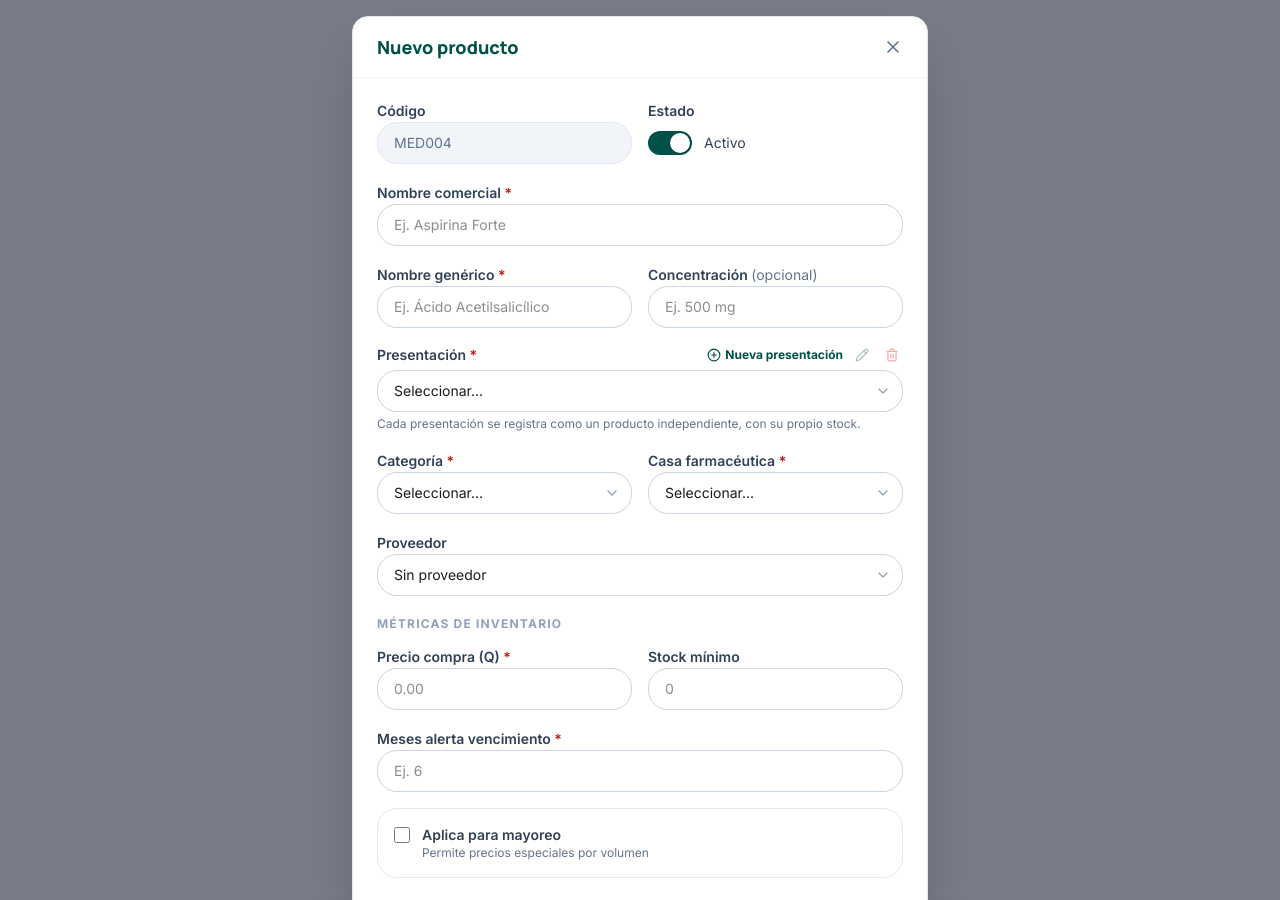
ProductoFormModal › permite crear una presentación nueva desde un modal, sin salir del formulario
This screenshot has width=1280, height=900.
Step 1. Click the button "Nueva presentación" → (775,355), box x1=707 y1=347 x2=843 y2=363
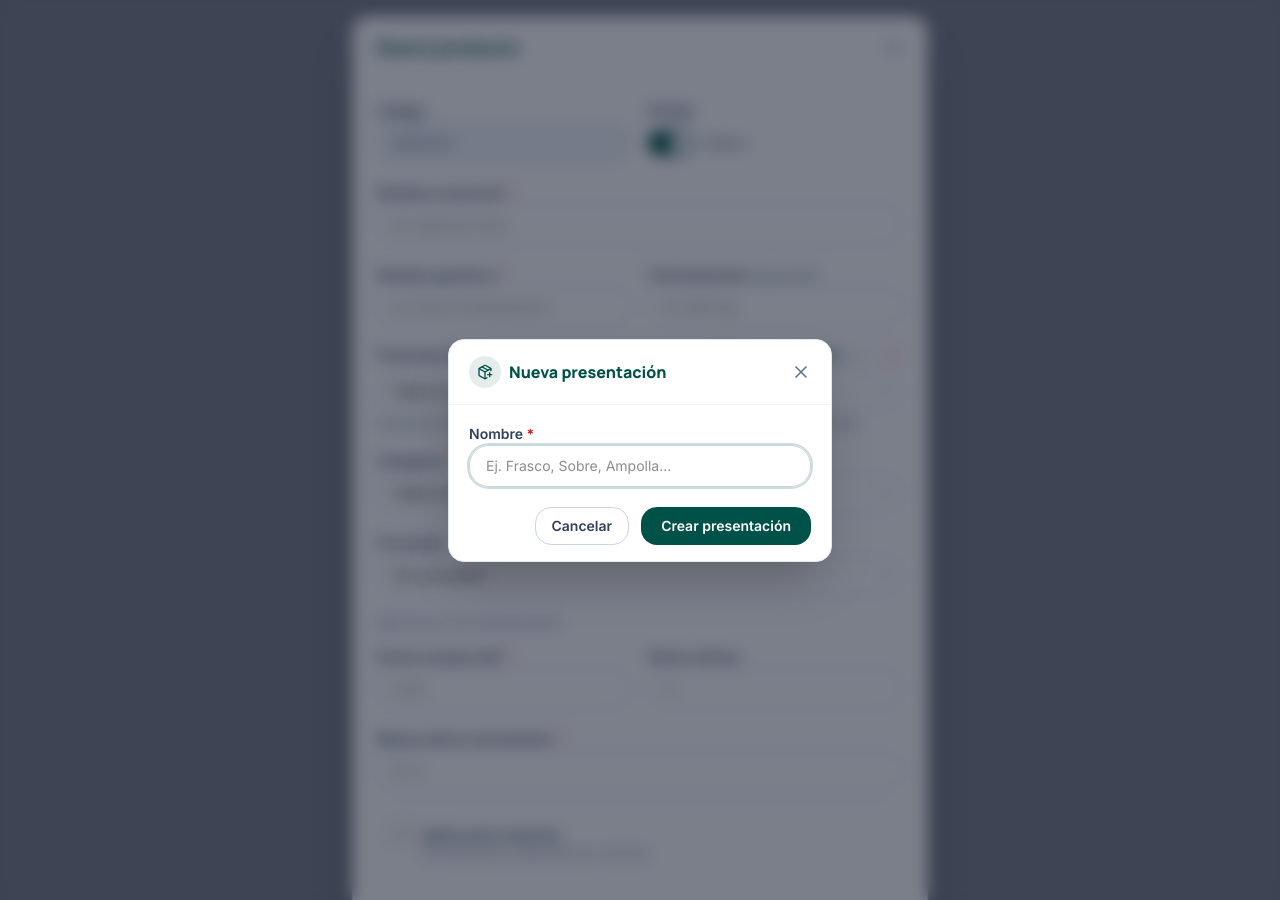
Expected: the heading "Nueva presentación" is shown, x1=509 y1=360 x2=666 y2=384
Step 2. Type "Frasco" into the field with placeholder "Ej. Frasco, Sobre, Ampolla..." → (640,466), box x1=469 y1=444 x2=811 y2=486
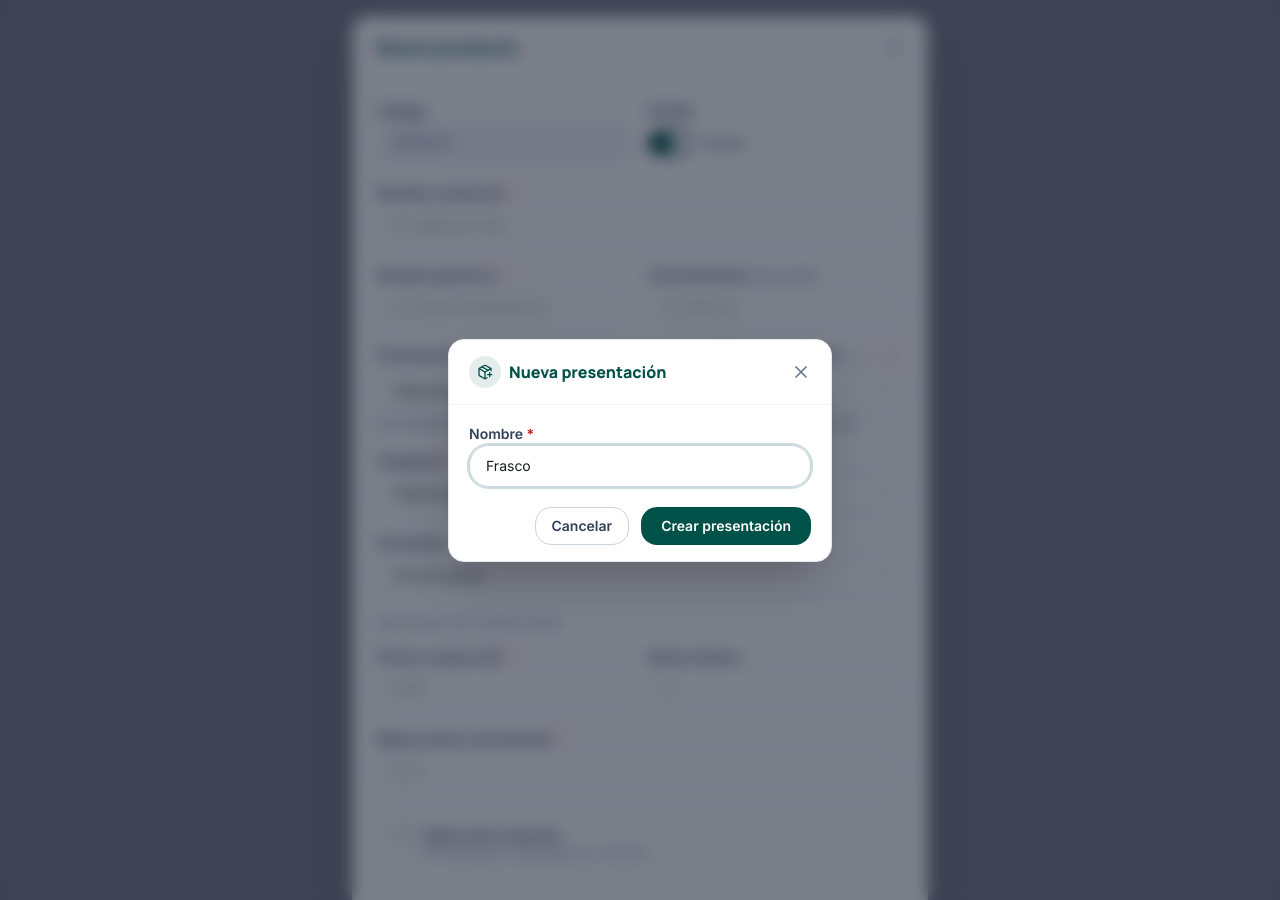
Step 3. Click the button "Crear presentación" → (726,526), box x1=641 y1=506 x2=811 y2=544
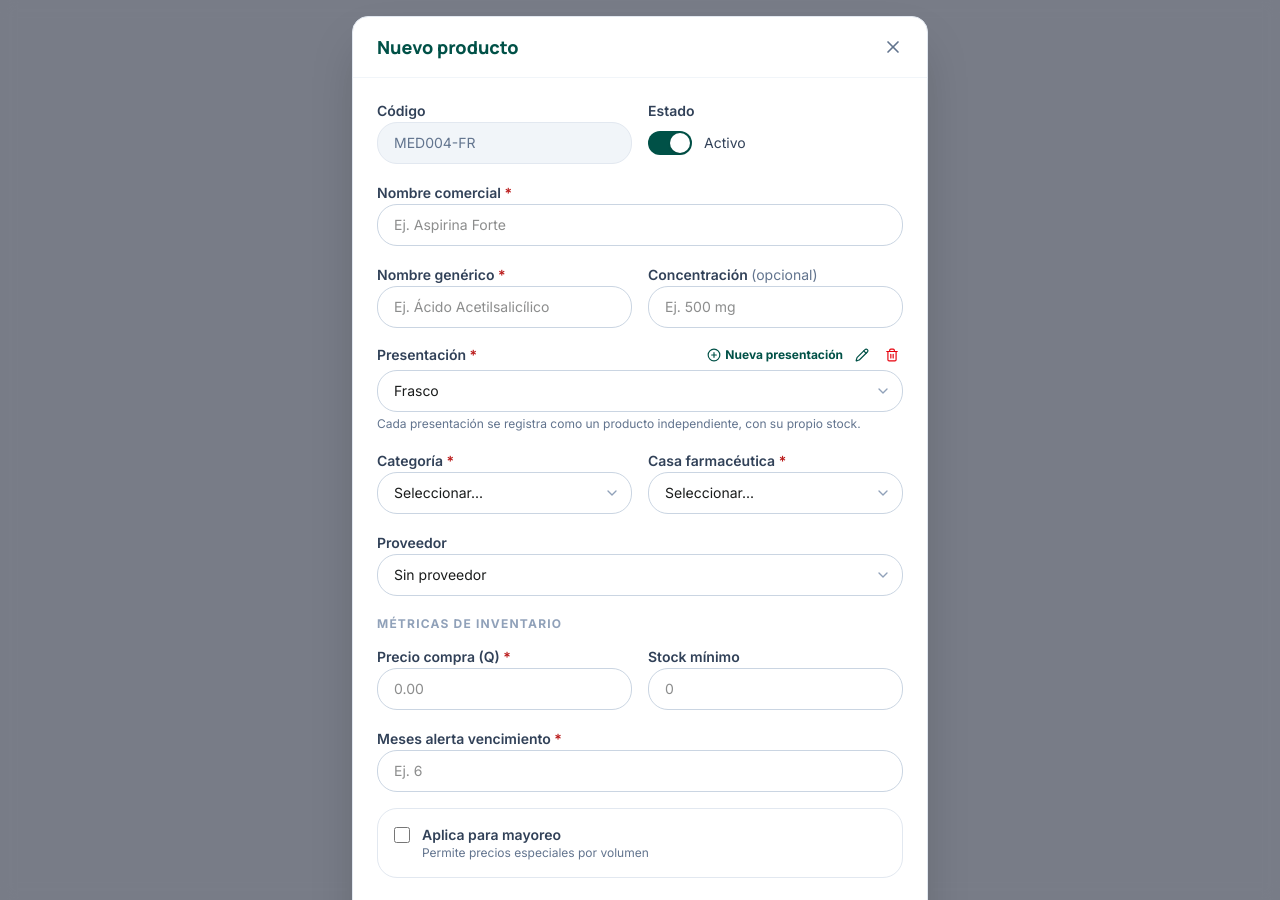
Expected: the dropdown labelled "Presentación *" shows "Frasco", x1=377 y1=370 x2=903 y2=412
